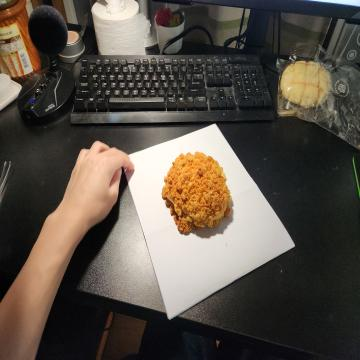soboru_bread: (161, 152, 233, 237)
